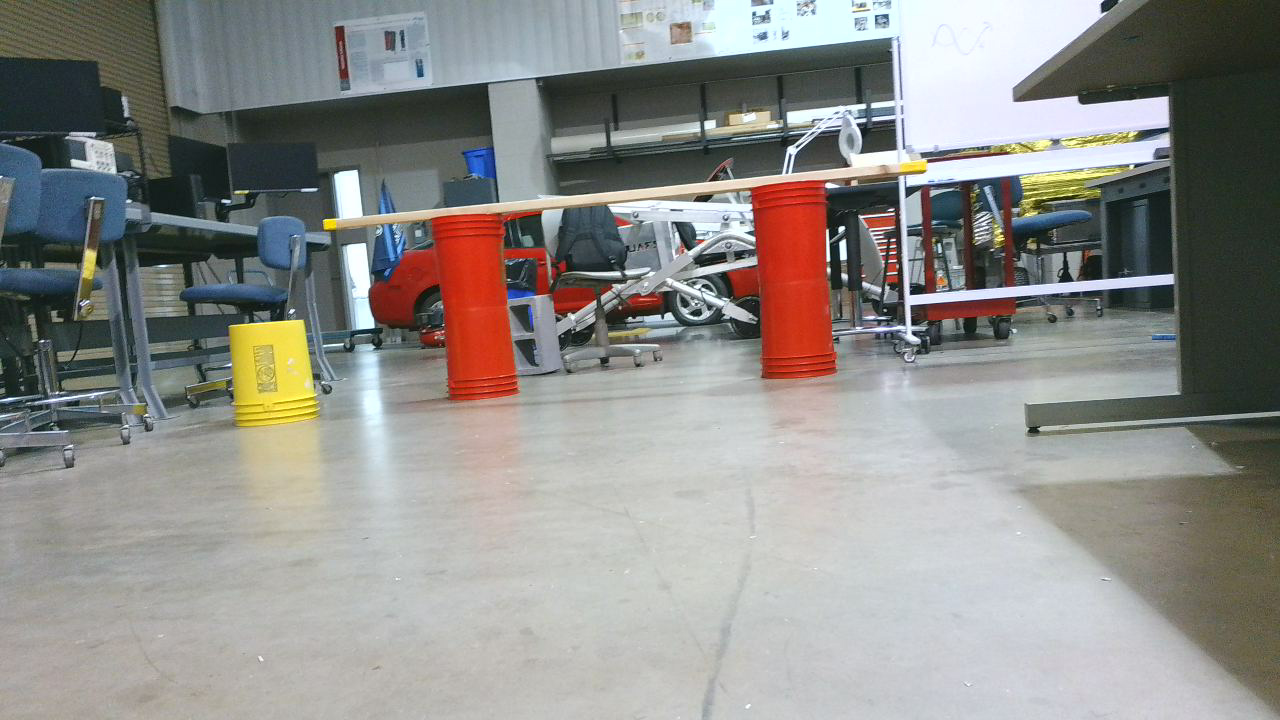red_bucket_arch: (433, 183, 846, 408)
yellow_bucket: (230, 327, 327, 431)
